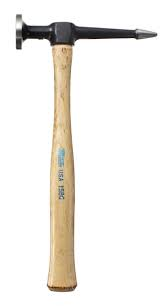hammer: (14, 12, 158, 293)
